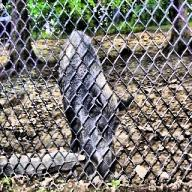boar: (55, 29, 134, 184)
